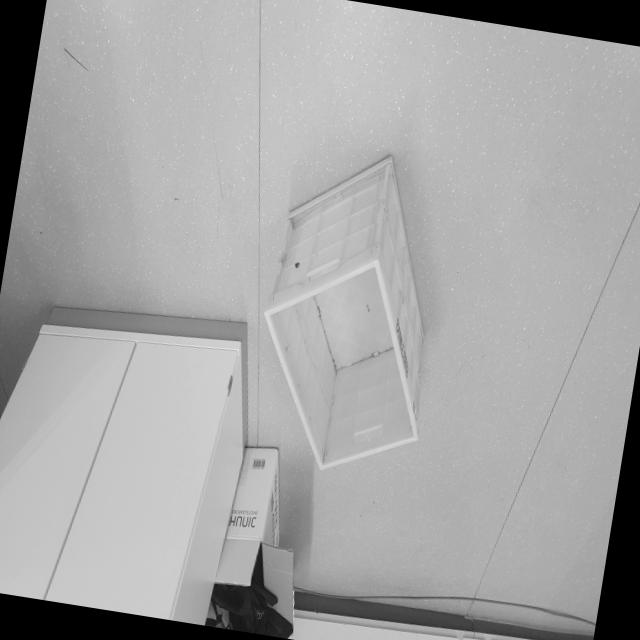box: (235, 126, 466, 491)
